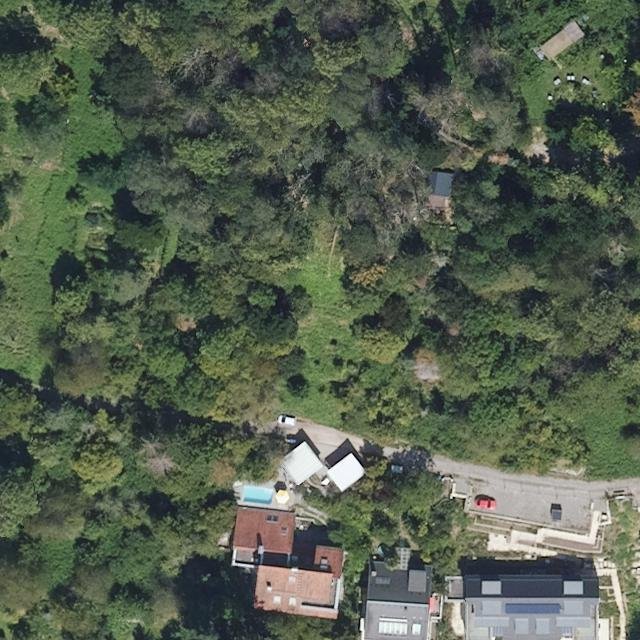PV: (504, 603, 562, 615), (374, 576, 393, 585)
